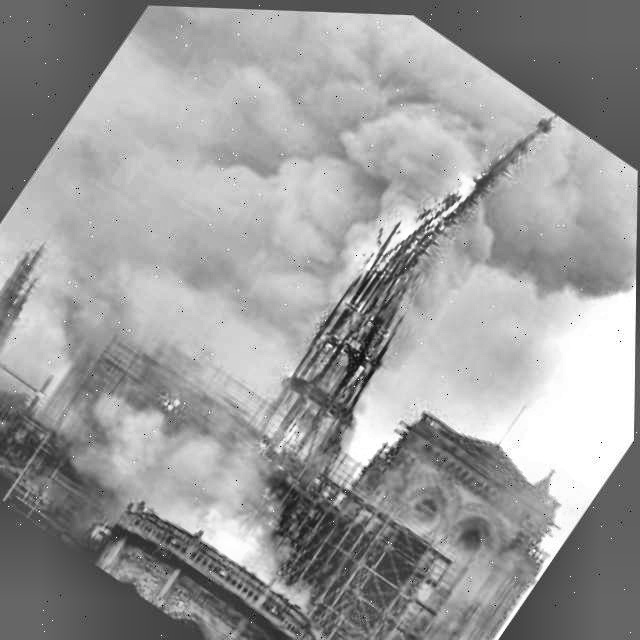Fire: (237, 129, 491, 465), (176, 486, 273, 579)
Smoke: (0, 0, 539, 563), (386, 101, 639, 447)
